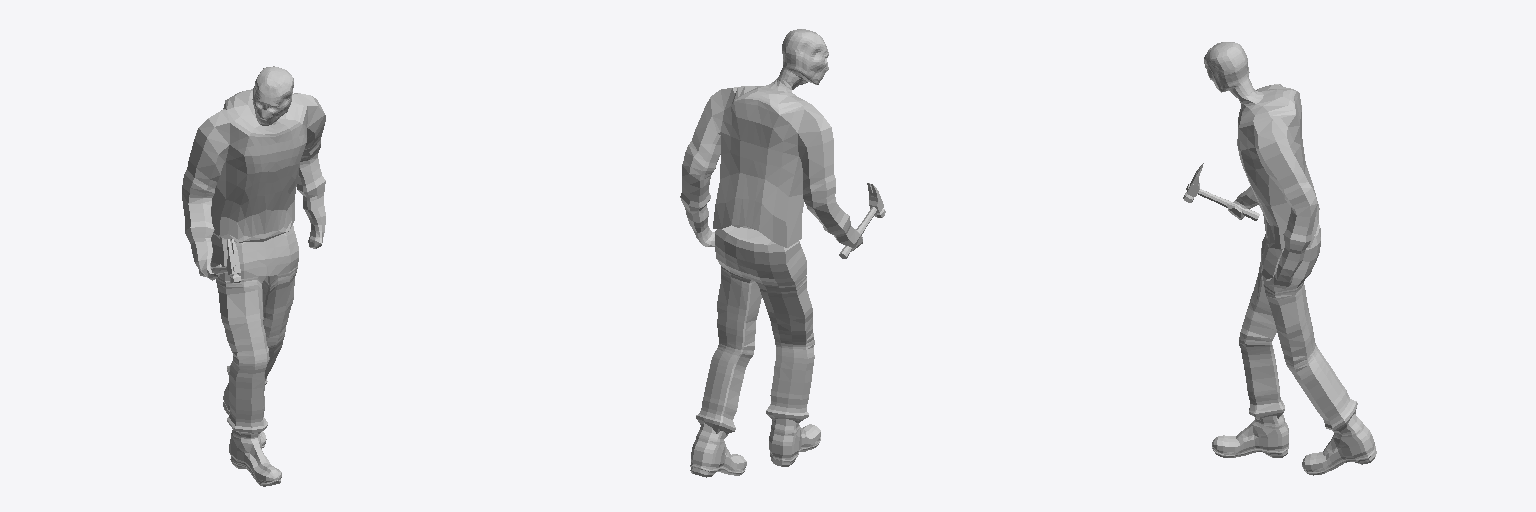
File: Murderer_Idle56.obj
The picture shows the model from 3 angles: view 1: azimuth 30°, elevation 25°; view 2: azimuth 150°, elevation 25°; view 3: azimuth 270°, elevation 25°; orthographic projection.
Parts seen in each view (by area): view 1: Körper, Beine, Stiefel, Hammer; view 2: Körper, Beine, Stiefel, Hammer; view 3: Körper, Beine, Stiefel, Hammer.
Boxes of the visible parts, <box> form: Körper: <box>182,66,325,280</box>; Beine: <box>211,225,298,434</box>; Stiefel: <box>223,383,281,486</box>; Hammer: <box>199,239,240,283</box>; Körper: <box>680,29,862,251</box>; Beine: <box>696,225,814,437</box>; Stiefel: <box>690,419,820,477</box>; Hammer: <box>839,183,885,258</box>; Körper: <box>1204,42,1319,288</box>; Beine: <box>1239,224,1357,431</box>; Stiefel: <box>1212,414,1376,475</box>; Hammer: <box>1183,163,1259,220</box>.
Bounding box in the file's own units: 0.3628 × 0.9587 × 0.4058.